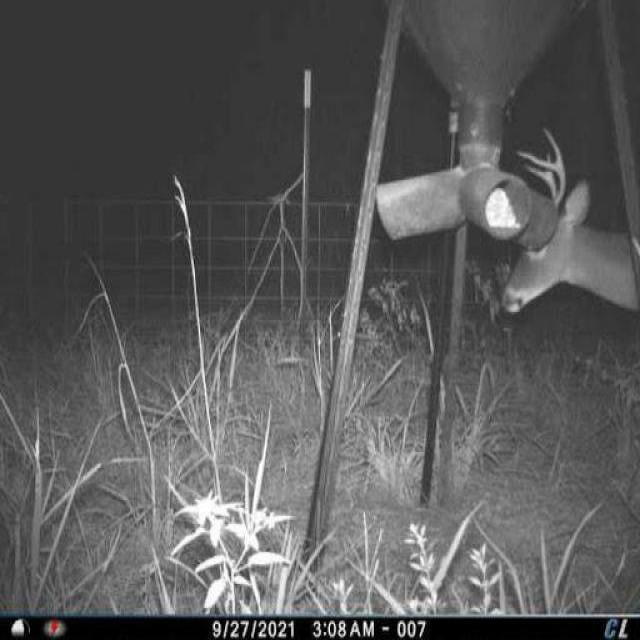deer: (495, 120, 640, 323)
